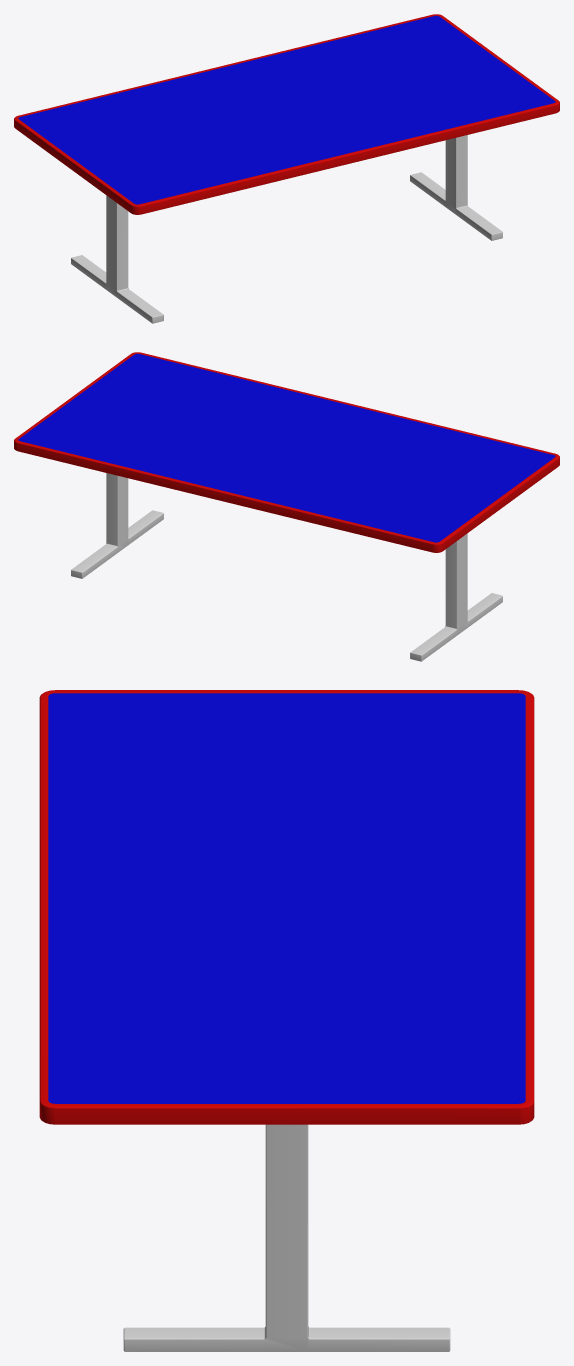
The model's file is conference_table.fbx.
The picture shows the model from 3 angles, top to bottom: view 1: azimuth 30°, elevation 25°; view 2: azimuth 150°, elevation 25°; view 3: azimuth 270°, elevation 25°; orthographic projection. The views are drawn at different scales.
Visible parts, largest first — view 1: table top.002, table leg.002; view 2: table top.002, table leg.002; view 3: table top.002, table leg.002.
Boxes of the visible parts, box(x1,y1,x2,y2) form: table top.002: box(14, 14, 559, 214); table leg.002: box(71, 135, 502, 323); table top.002: box(14, 352, 559, 552); table leg.002: box(71, 473, 502, 661); table top.002: box(39, 690, 534, 1124); table leg.002: box(123, 1124, 450, 1351).
Size of the model in its own units: 240 by 75.63 by 120.
